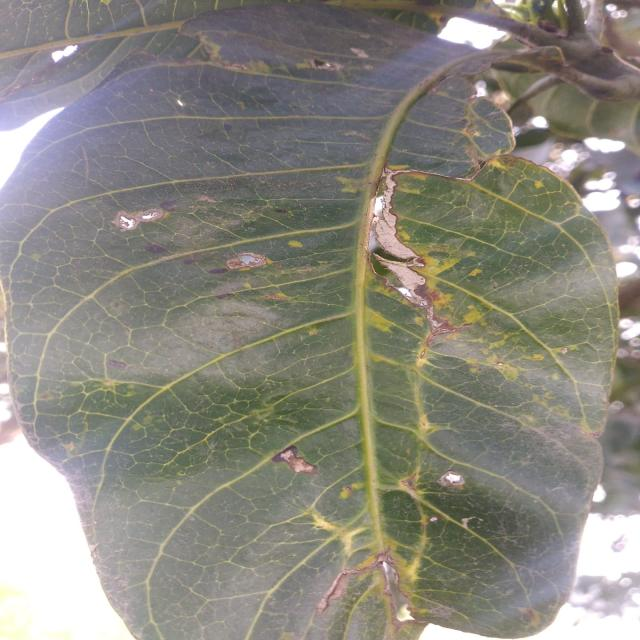Bacterial Cancer: (368, 166, 451, 321), (322, 548, 452, 633), (103, 206, 185, 247), (279, 446, 320, 477)
black die: (199, 72, 297, 113), (220, 81, 289, 110)
